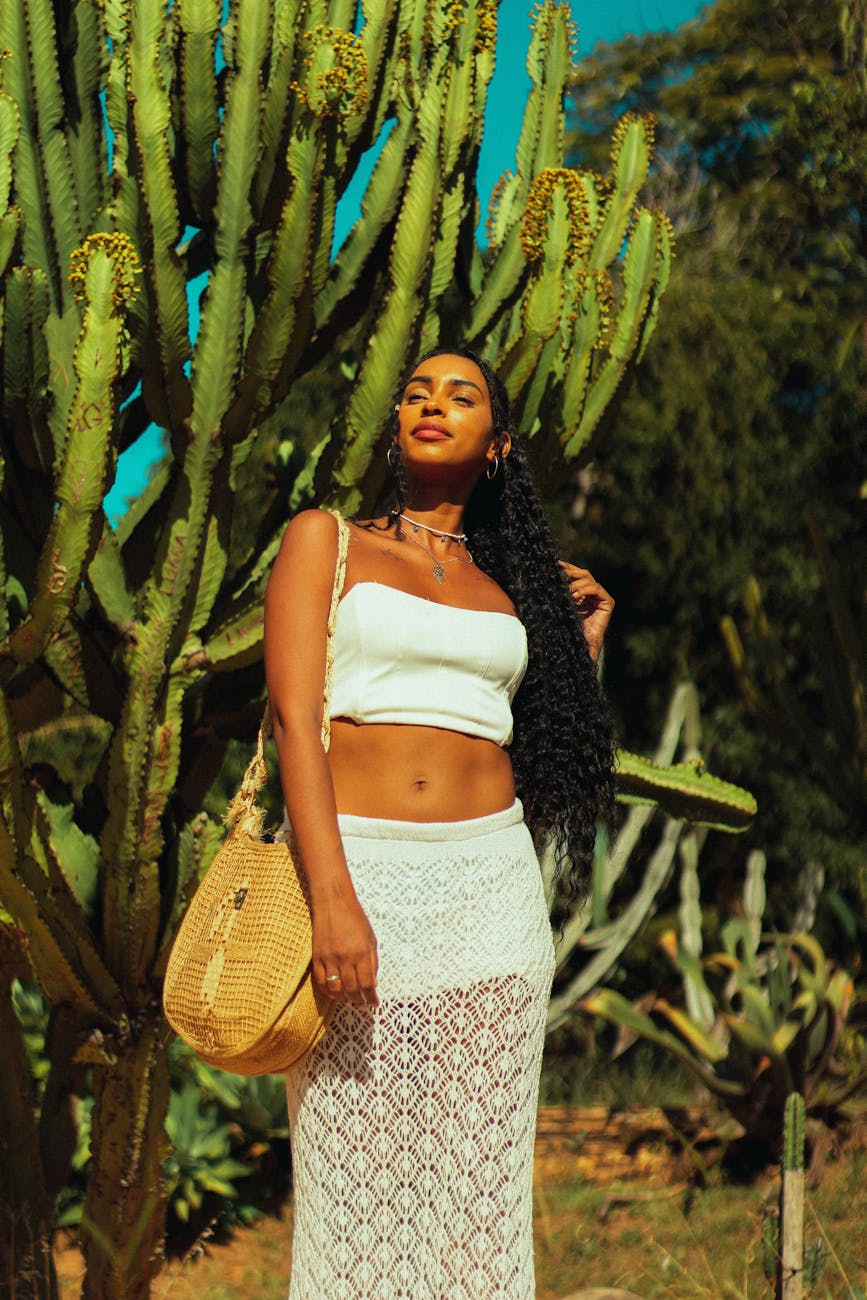crop_top: (289, 574, 547, 754)
short_medium_skirt: (149, 815, 337, 1065)
